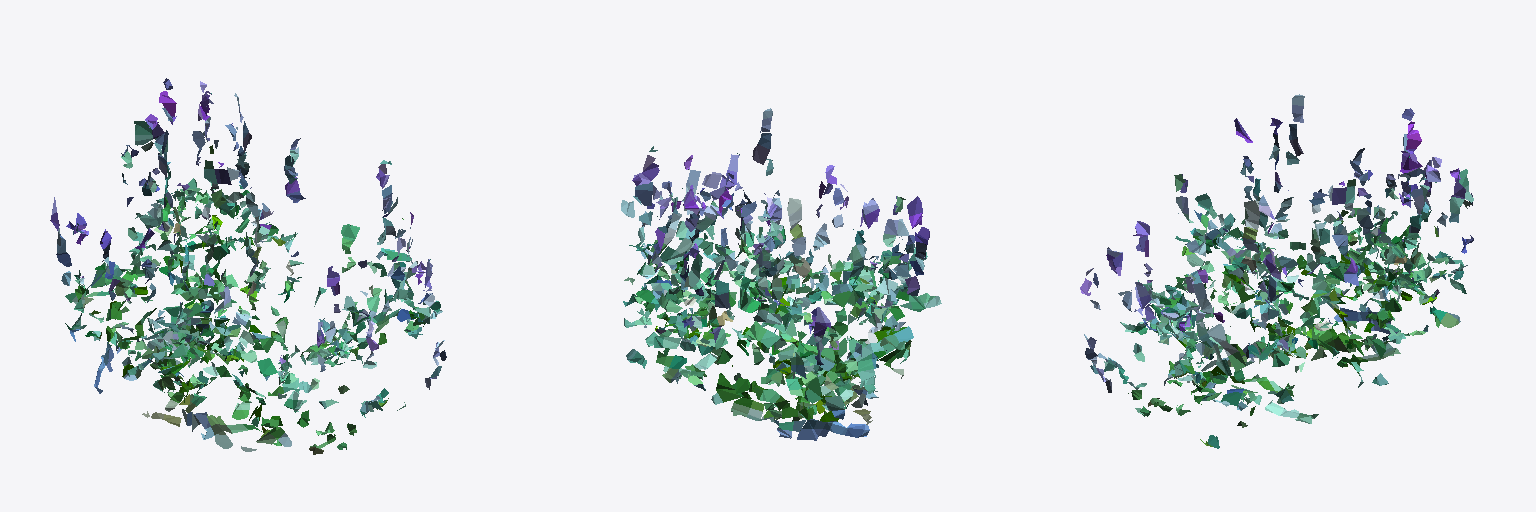
3 views of the same model, side by side, from view 1: azimuth 30°, elevation 25°; view 2: azimuth 150°, elevation 25°; view 3: azimuth 270°, elevation 25° (orthographic).
Bounding box in the file's own units: 1.75 × 1.64 × 1.91.
1 materials, 1 textured.